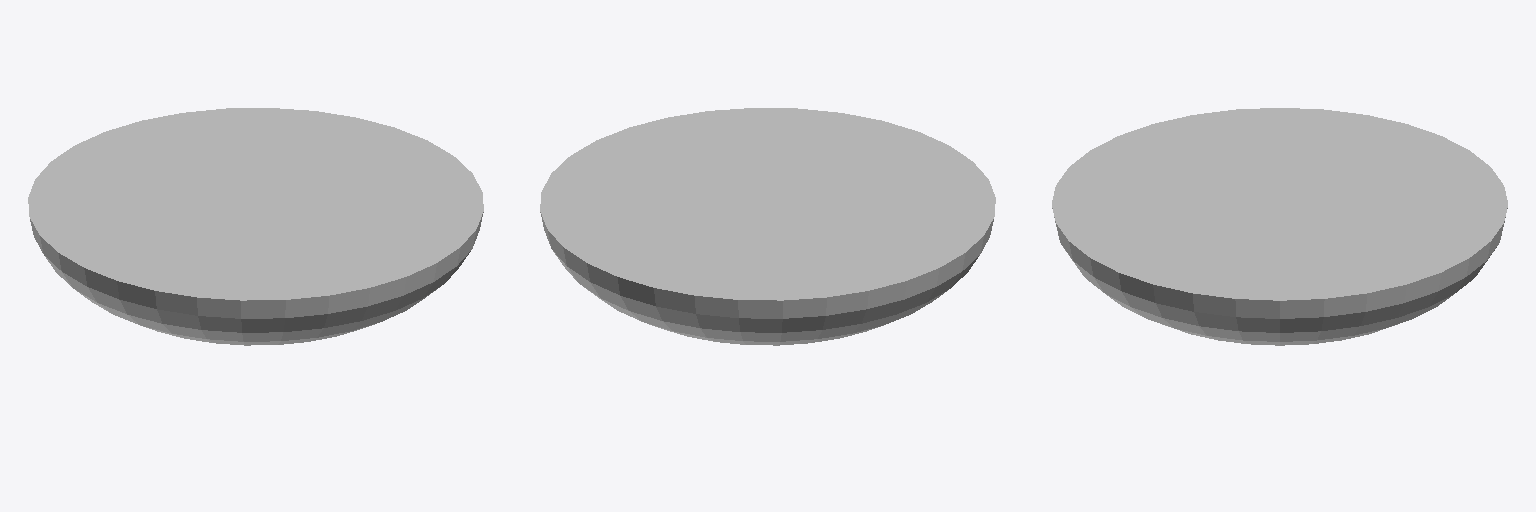
Rendered from chao.obj.
3 renders of one model, left to right at view 1: azimuth 30°, elevation 25°; view 2: azimuth 150°, elevation 25°; view 3: azimuth 270°, elevation 25°, orthographic.
Parts seen in each view (by area): view 1: Sphere; view 2: Sphere; view 3: Sphere.
Part boxes in pixels (left/top/right/bottom): Sphere: left=28, top=108, right=483, bottom=345; Sphere: left=540, top=108, right=995, bottom=345; Sphere: left=1052, top=108, right=1507, bottom=345.
Size of the model in its own units: 200 by 50 by 200.